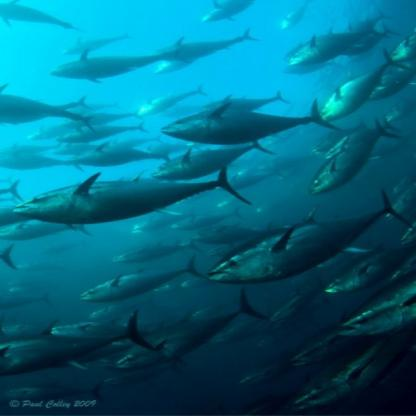Scombridae -Tunas-: (202, 186, 413, 287), (11, 161, 254, 227), (102, 290, 264, 377), (156, 100, 342, 148), (306, 116, 402, 197), (48, 36, 193, 86), (316, 50, 414, 121), (143, 134, 281, 182), (76, 251, 204, 302), (287, 16, 382, 70)
